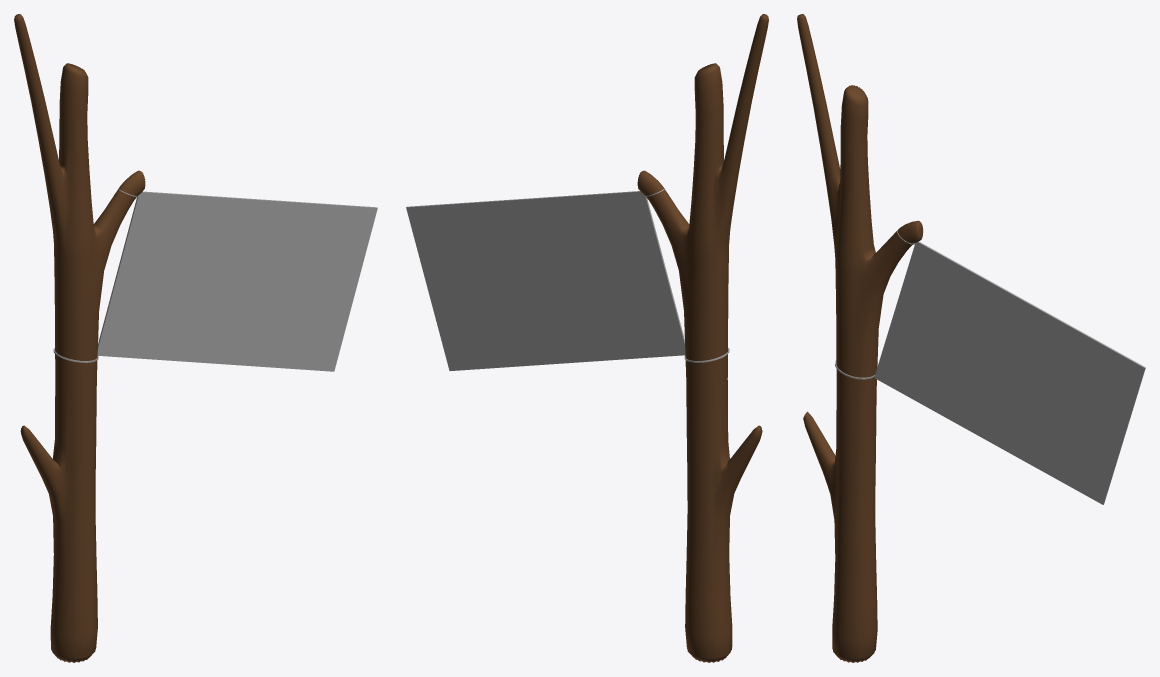
Rendered from Flag_FBX.fbx.
The picture shows the model from 3 angles, left to right: view 1: azimuth 30°, elevation 25°; view 2: azimuth 150°, elevation 25°; view 3: azimuth 330°, elevation 25°; orthographic projection. The views are drawn at different scales.
Visible parts, largest first — view 1: Flag, FlagPole; view 2: Flag, FlagPole; view 3: Flag, FlagPole.
Part boxes in pixels (left/top/right/bottom): Flag: left=53, top=188, right=377, bottom=371; FlagPole: left=14, top=14, right=145, bottom=662; Flag: left=406, top=188, right=729, bottom=370; FlagPole: left=637, top=14, right=768, bottom=662; Flag: left=835, top=229, right=1145, bottom=504; FlagPole: left=797, top=14, right=923, bottom=662.
Bounding box in the file's own units: 6.22 × 10.74 × 0.7051.
